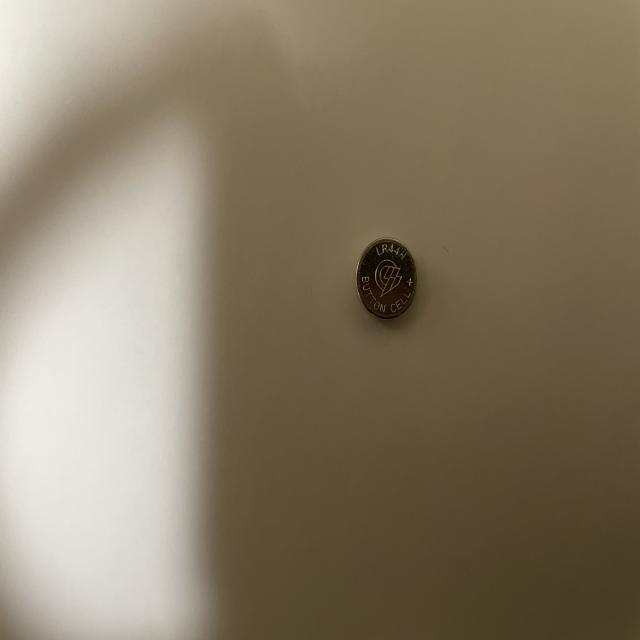COIN: (357, 238, 418, 318)
